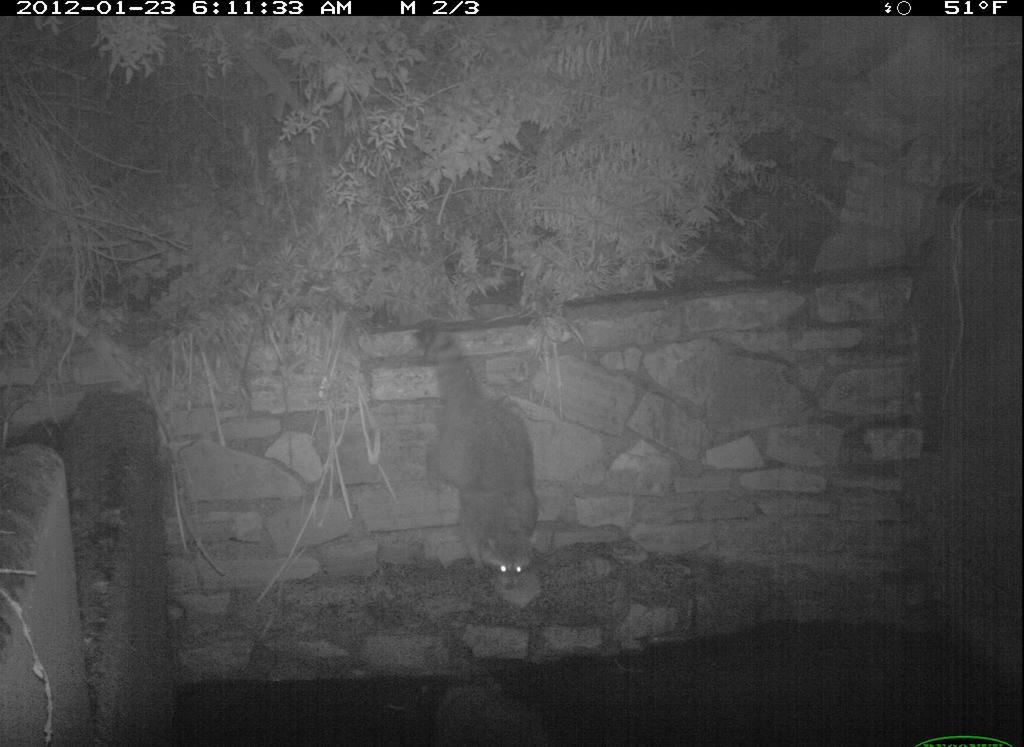raccoon: (417, 319, 556, 601)
